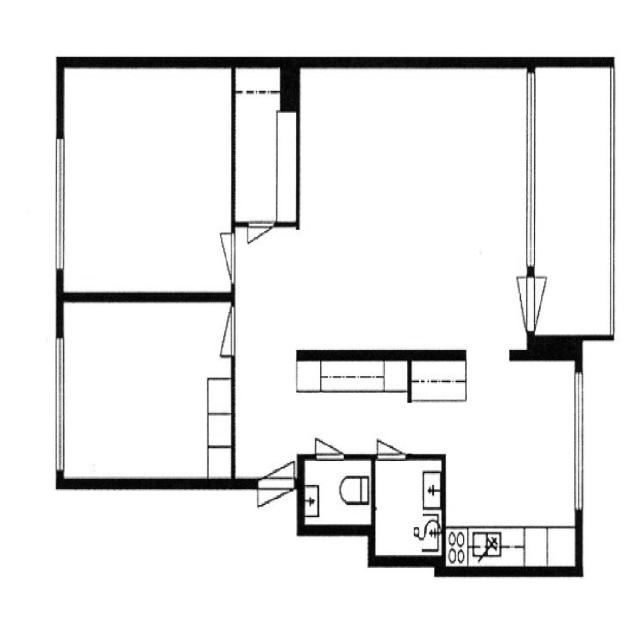door: (514, 266, 550, 334), (254, 458, 297, 510), (216, 227, 239, 285), (220, 302, 238, 362), (311, 436, 348, 464), (244, 219, 276, 248), (374, 438, 409, 464)
window: (51, 329, 68, 478), (567, 370, 584, 517), (524, 66, 536, 267), (54, 132, 66, 279)
zone: (296, 71, 528, 353), (59, 67, 234, 297), (59, 299, 234, 485), (445, 353, 582, 566), (531, 61, 613, 341), (232, 65, 297, 230), (373, 458, 443, 560), (302, 456, 374, 531)
